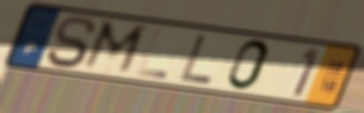0: (225, 39, 270, 92)
1: (291, 47, 323, 100)
L: (177, 33, 215, 87), (134, 26, 170, 81)
M: (78, 18, 151, 79)
S: (43, 15, 100, 70)
